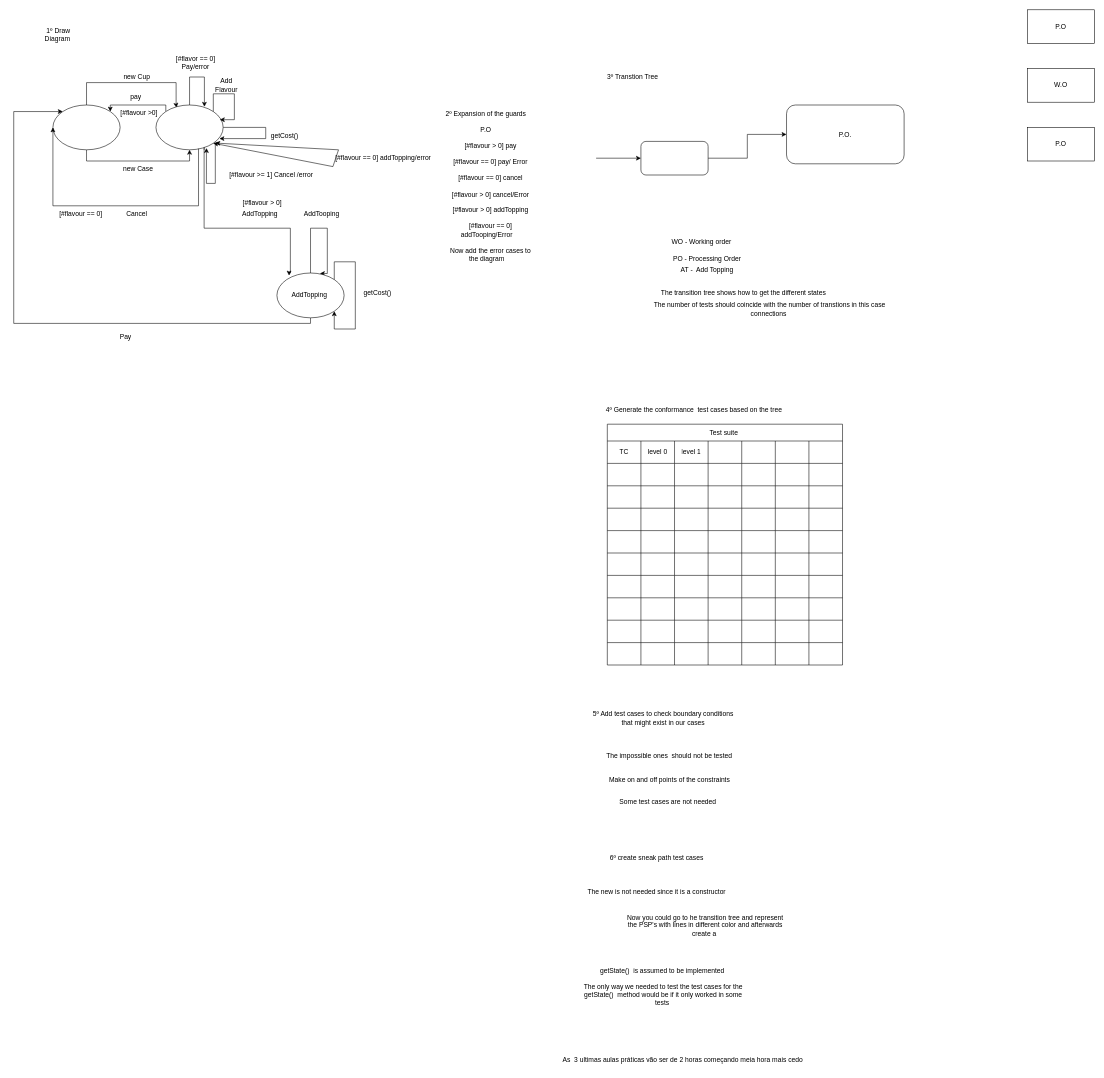
The diagram is 1104 pixels wide and 1078 high, and some of its shapes have lost their labels. Here are the shapes that lost their labels. From the top down, the centre of each, then its label:
the point at 86,127: Waiting Order
the point at 189,127: Processing Order
the point at 674,158: W.O.
